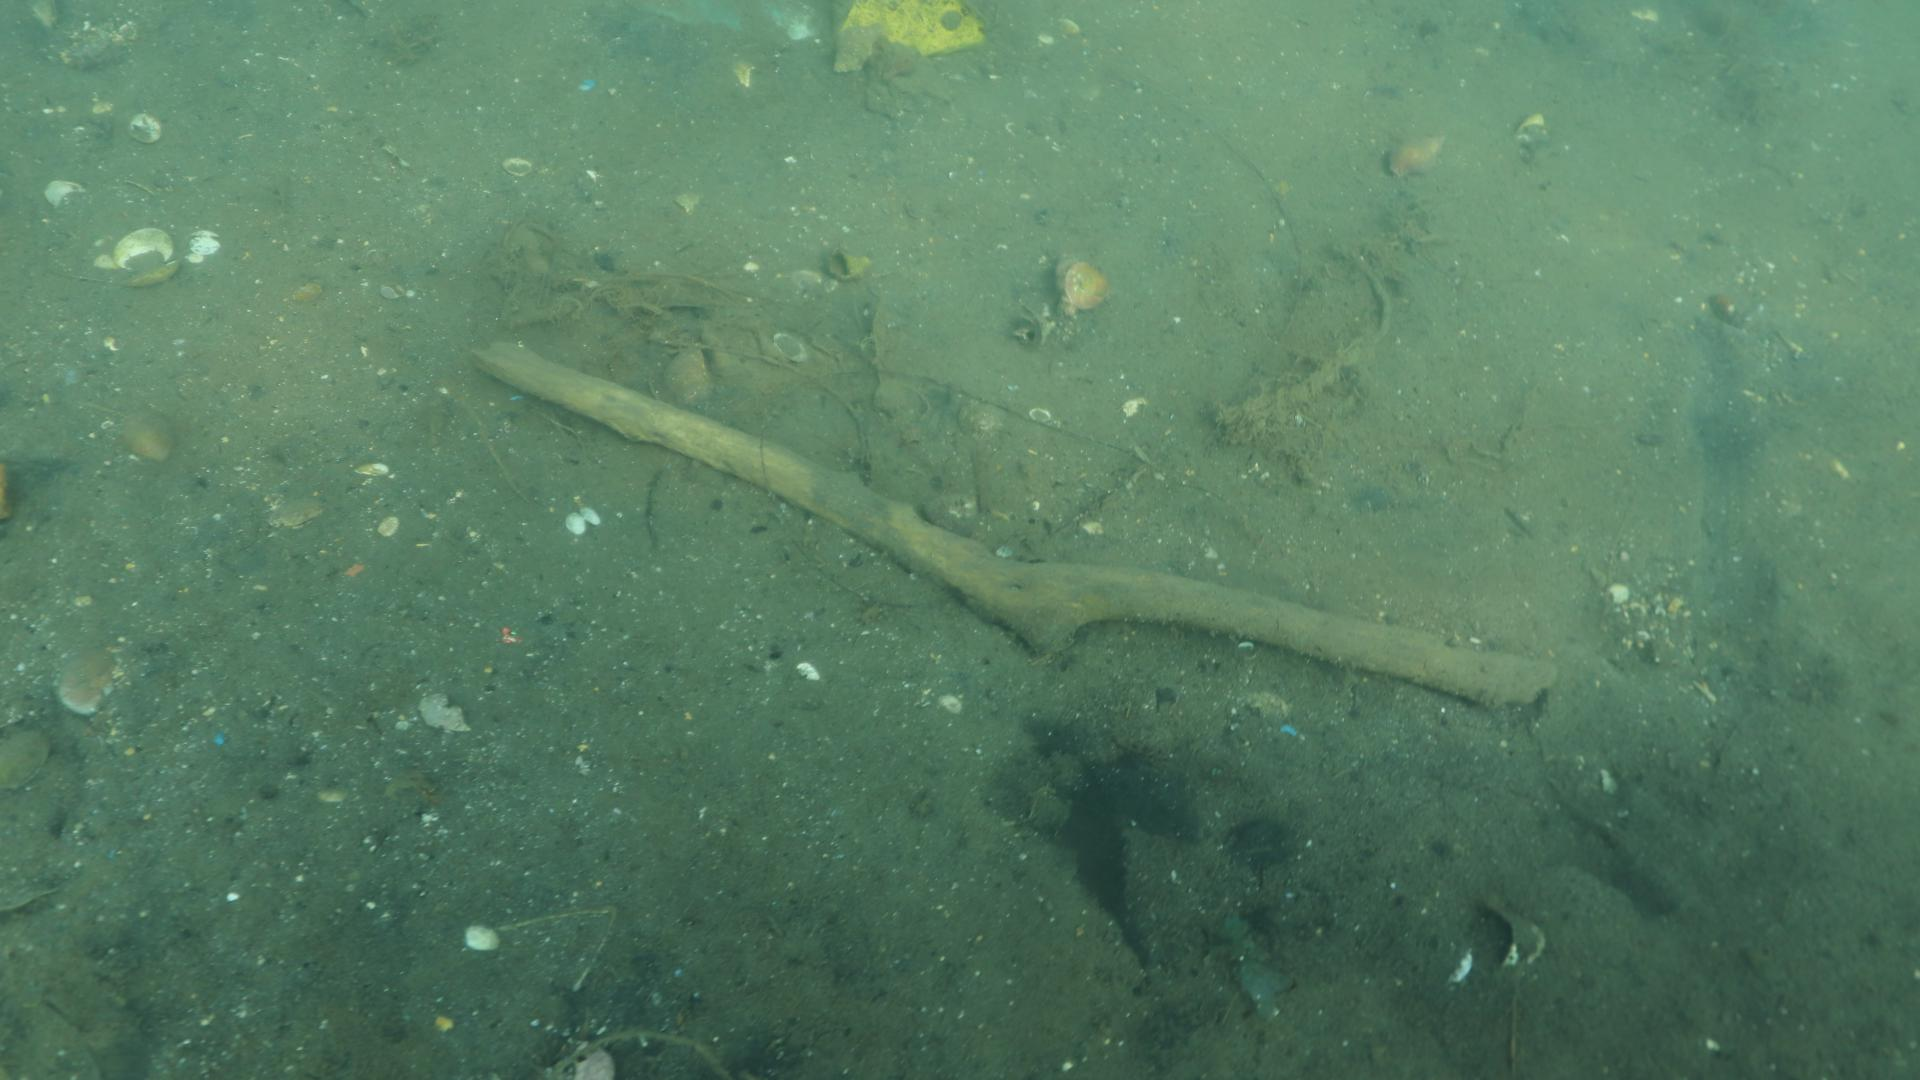wood: (467, 338, 1557, 711)
